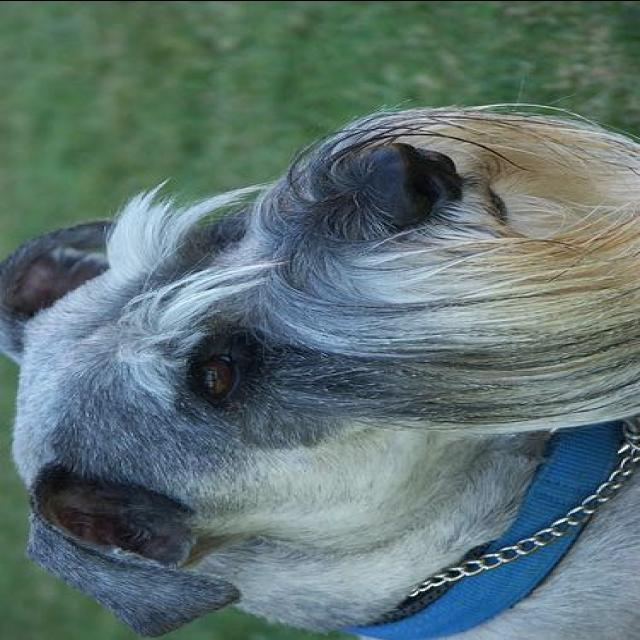standard_schnauzer: (1, 107, 636, 638)
